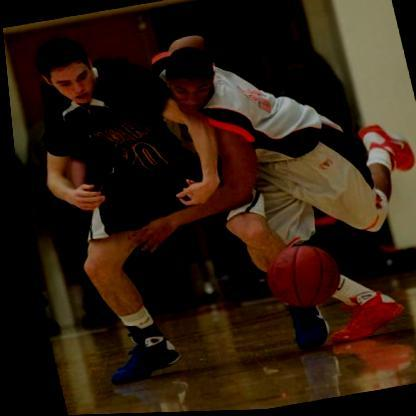basketball: (251, 240, 339, 313)
